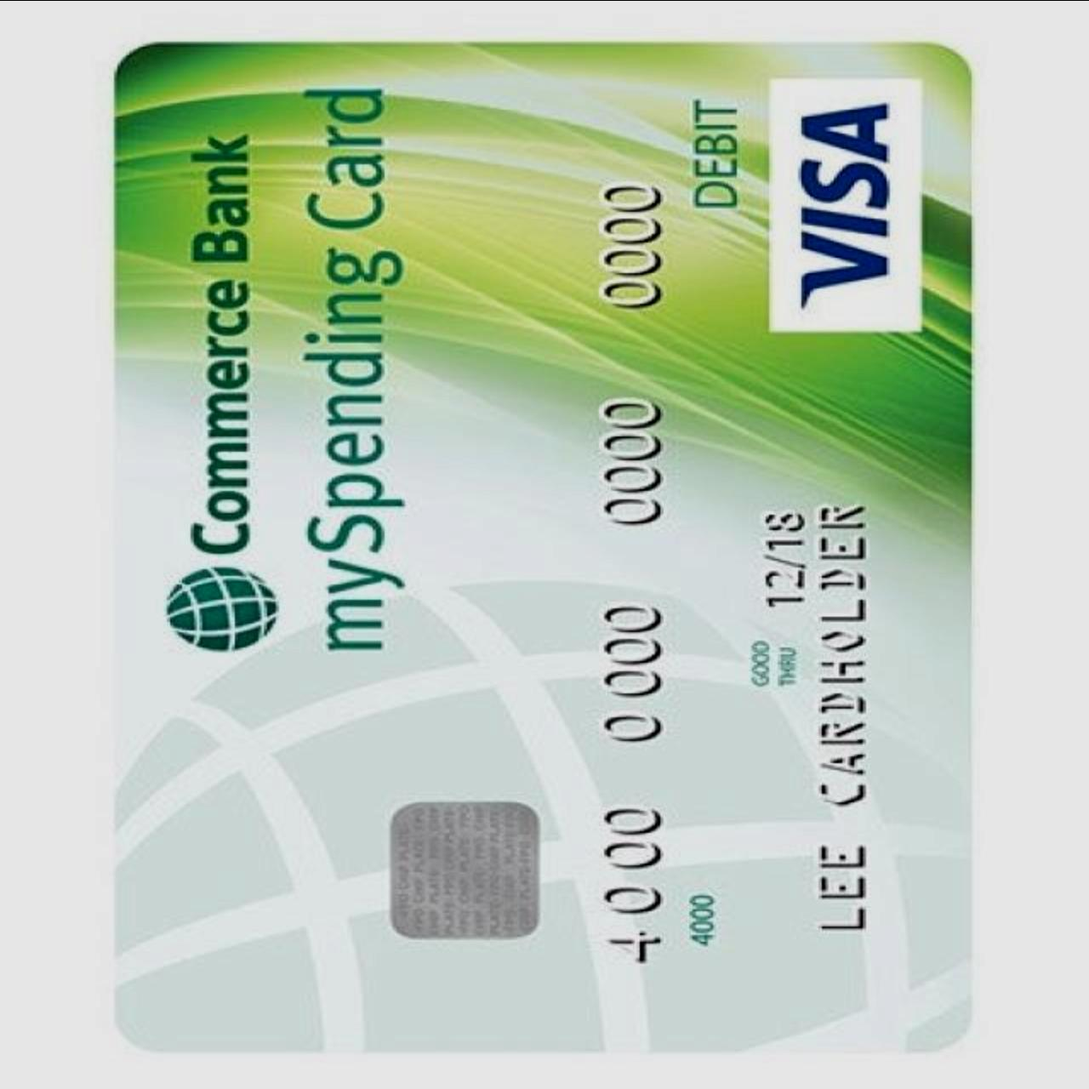credit_card: (92, 17, 980, 1072)
